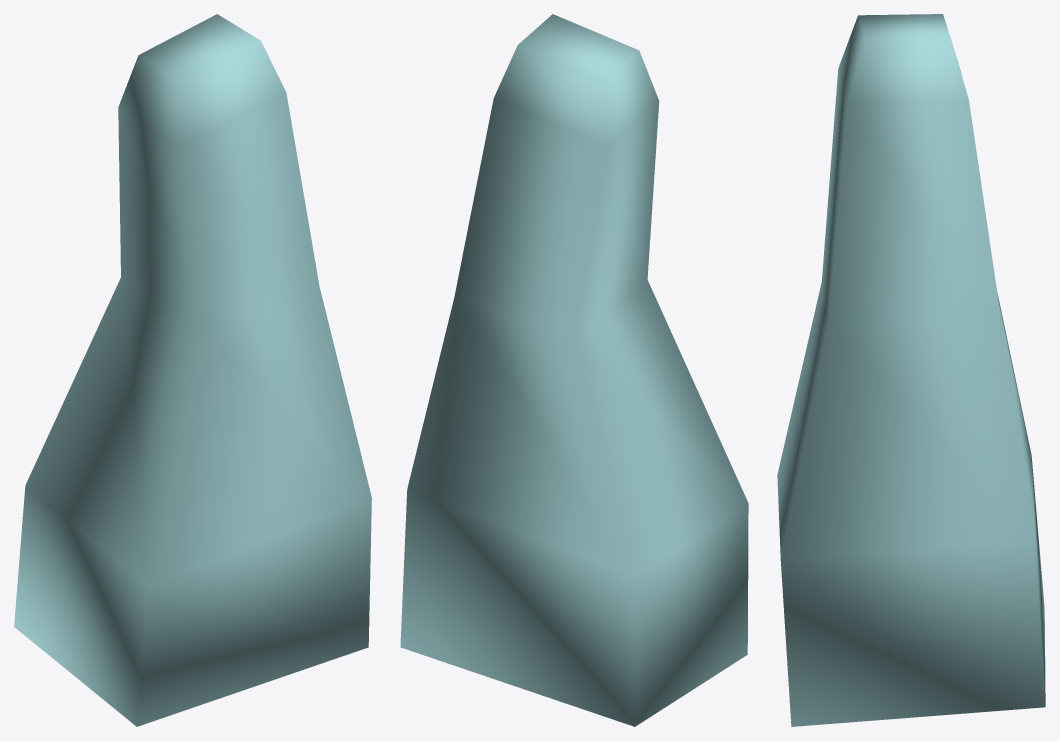
File: Skelly_f_middle.03.R.fbx
3 renders of one model, left to right at view 1: azimuth 30°, elevation 25°; view 2: azimuth 150°, elevation 25°; view 3: azimuth 270°, elevation 25°, orthographic. The views are drawn at different scales.
Parts seen in each view (by area): view 1: Skelly_f_middle.03.R; view 2: Skelly_f_middle.03.R; view 3: Skelly_f_middle.03.R.
Part boxes in pixels (bbox=[...]): Skelly_f_middle.03.R: bbox=[14, 14, 371, 726]; Skelly_f_middle.03.R: bbox=[400, 14, 748, 726]; Skelly_f_middle.03.R: bbox=[777, 14, 1045, 726].
Size of the model in its own units: 1.17 by 2.94 by 1.06.
